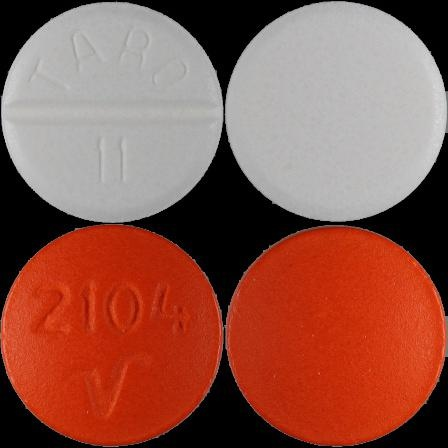43063-328: (0, 0, 224, 224)
